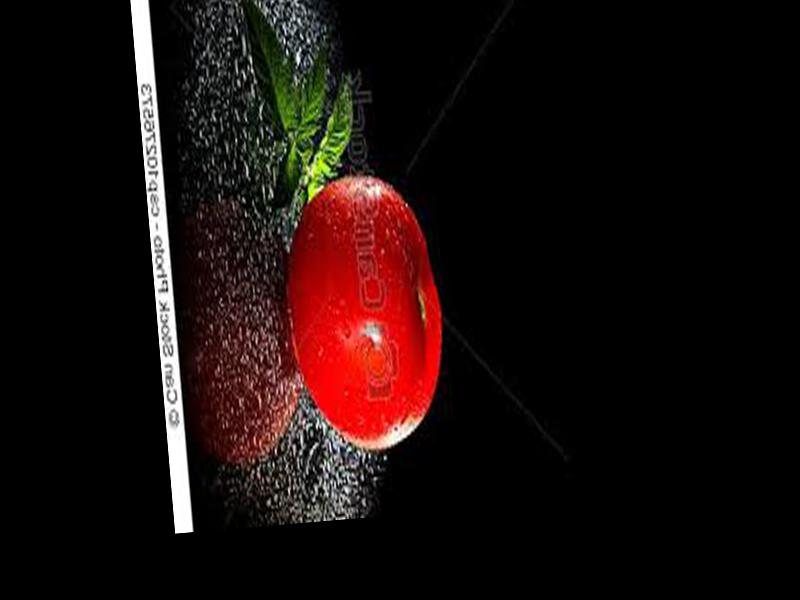Tomato: (278, 170, 452, 454)
